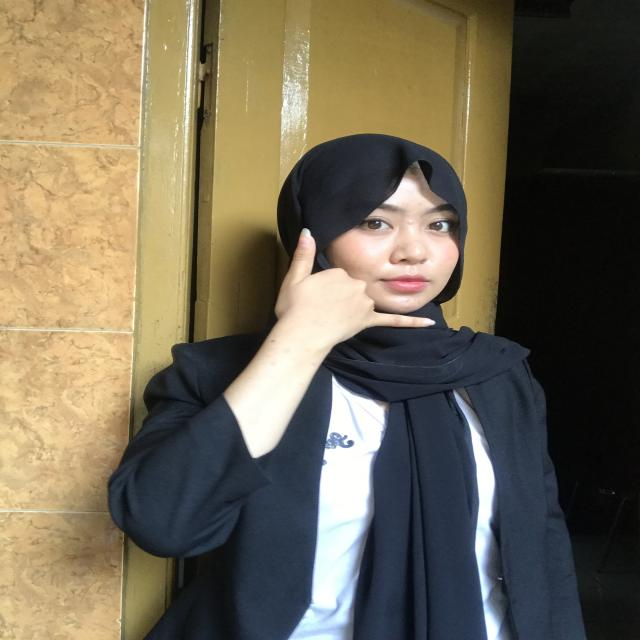telpon: (242, 222, 450, 369)
